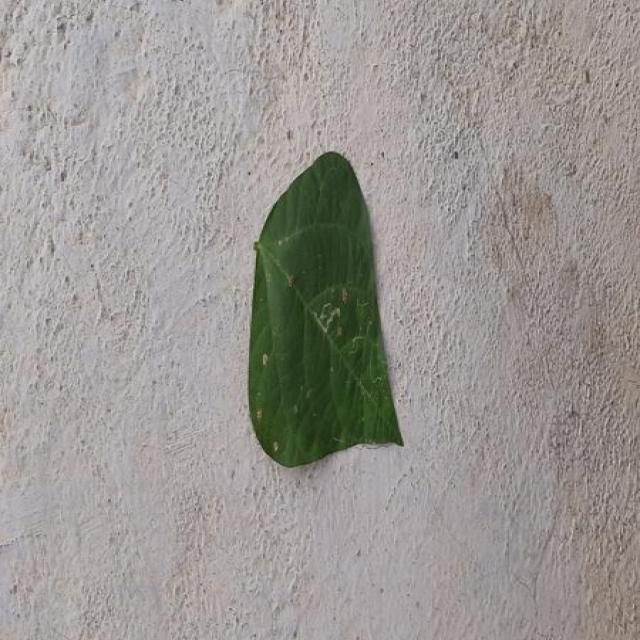beans: (250, 152, 403, 467)
